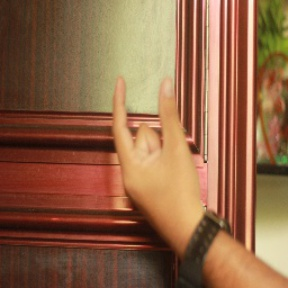U: (101, 72, 197, 217)
